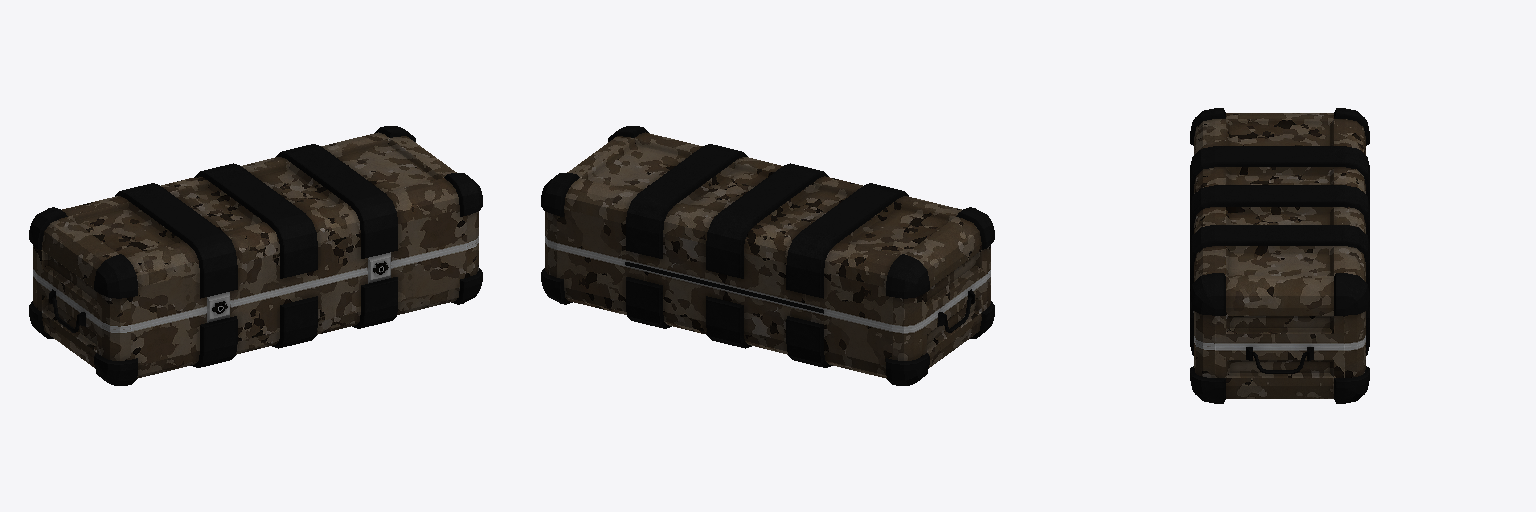
3 views of the same model, side by side, from view 1: azimuth 30°, elevation 25°; view 2: azimuth 150°, elevation 25°; view 3: azimuth 270°, elevation 25° (orthographic).
Parts seen in each view (by area): view 1: ammo_LOW; view 2: ammo_LOW; view 3: ammo_LOW.
Part boxes in pixels (left/top/right/bottom): ammo_LOW: left=29, top=126, right=482, bottom=385; ammo_LOW: left=541, top=126, right=994, bottom=385; ammo_LOW: left=1190, top=108, right=1369, bottom=403.
Bounding box in the file's own units: 206 × 63.99 × 84.
Materials: 1 (1 with a texture image).